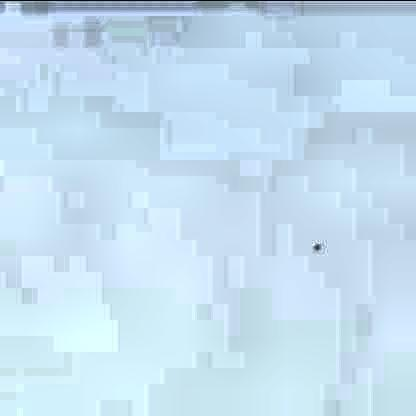golfball: (309, 237, 319, 248)
